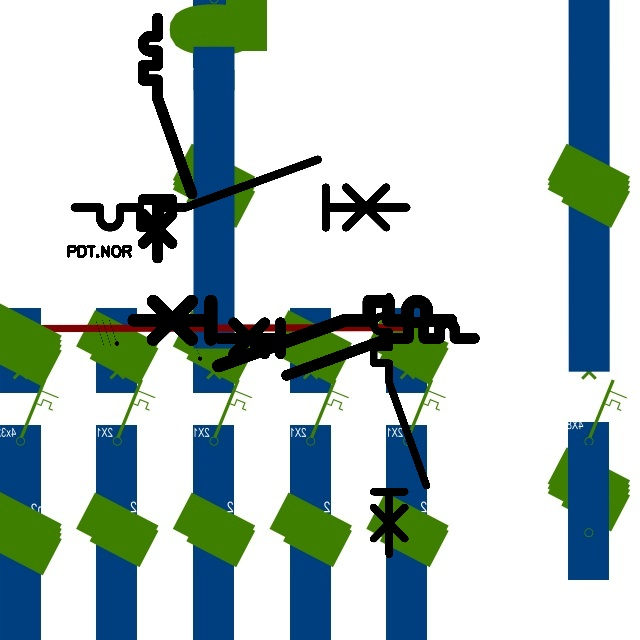interruptor_termomagnetico: (66, 151, 415, 236), (125, 293, 458, 374), (367, 290, 433, 561), (211, 316, 480, 382), (137, 12, 198, 264)
